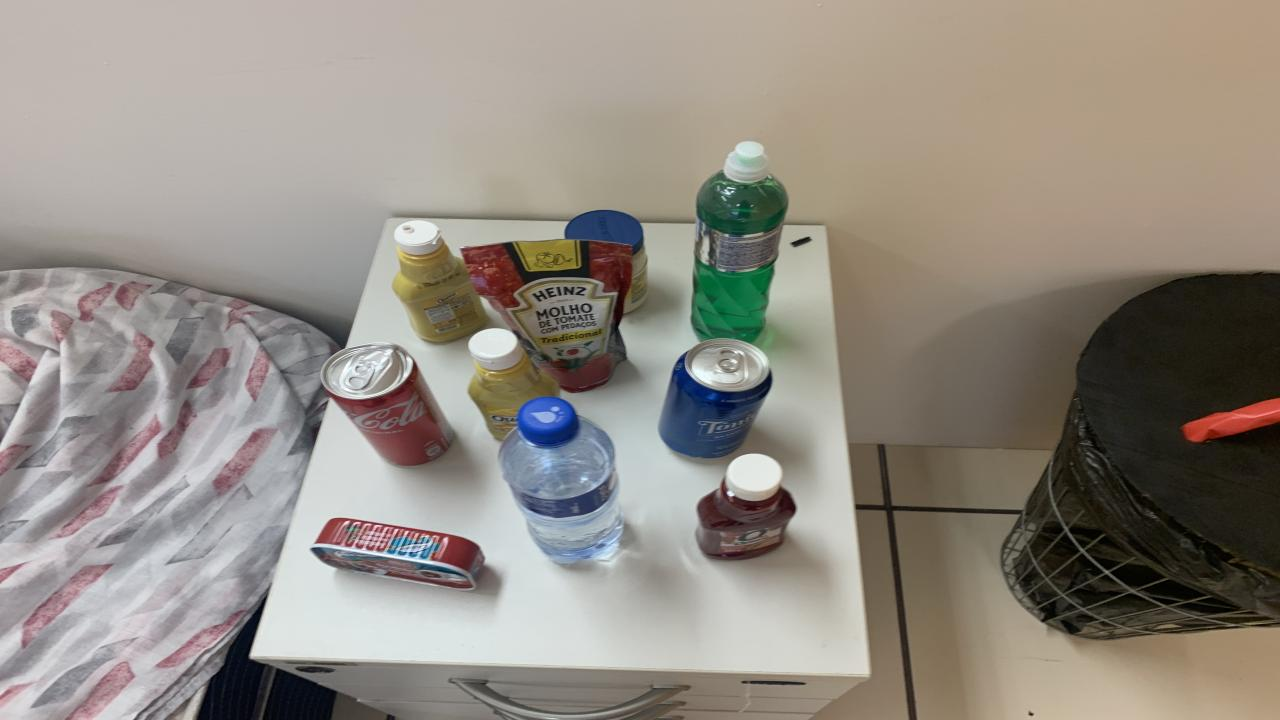Coke-Drinks: (320, 341, 455, 465)
Detergent-Cleanup_Items: (692, 141, 788, 341)
Ketchup-Pantry_Items: (695, 454, 795, 559)
Mayonnaise-Pantry_Items: (565, 210, 648, 313)
Mustard-Pantry_Items: (392, 219, 488, 341), (468, 328, 560, 441)
Tomato_Sauce-Pantry_Items: (460, 238, 632, 392)
Tonic-Drinks: (658, 338, 772, 458)
Tuna_Can-Pantry_Items: (310, 518, 485, 591)
Water_Bottle-Drinks: (498, 398, 622, 562)
